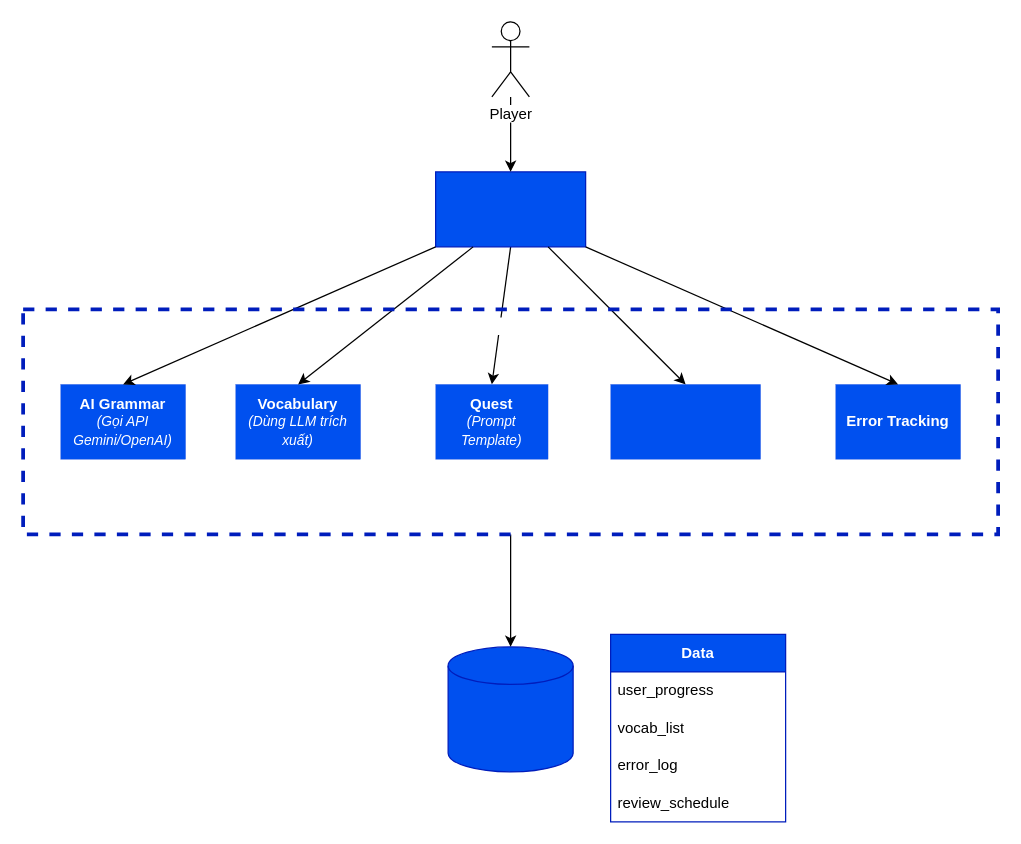
Image size: 1021x844. Some labels were removed from this diagram. The centre of each missing label's shape, as x and y in pixels:
Adaptive Difficulty: (685,421)
Database (Firebase): (510,709)
Frontend (Web/Mobile): (510,209)
